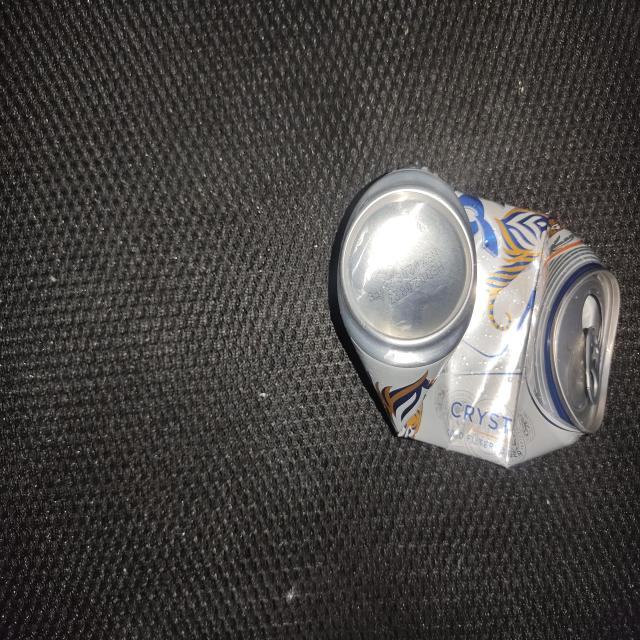kim_loai: (337, 167, 621, 467)
